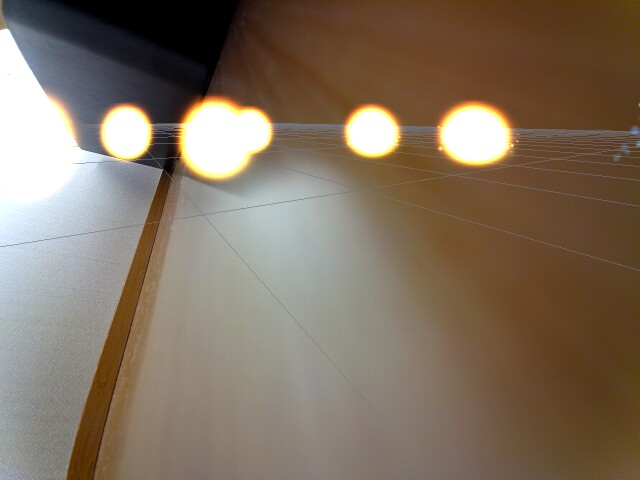firebig: (0, 59, 80, 219)
